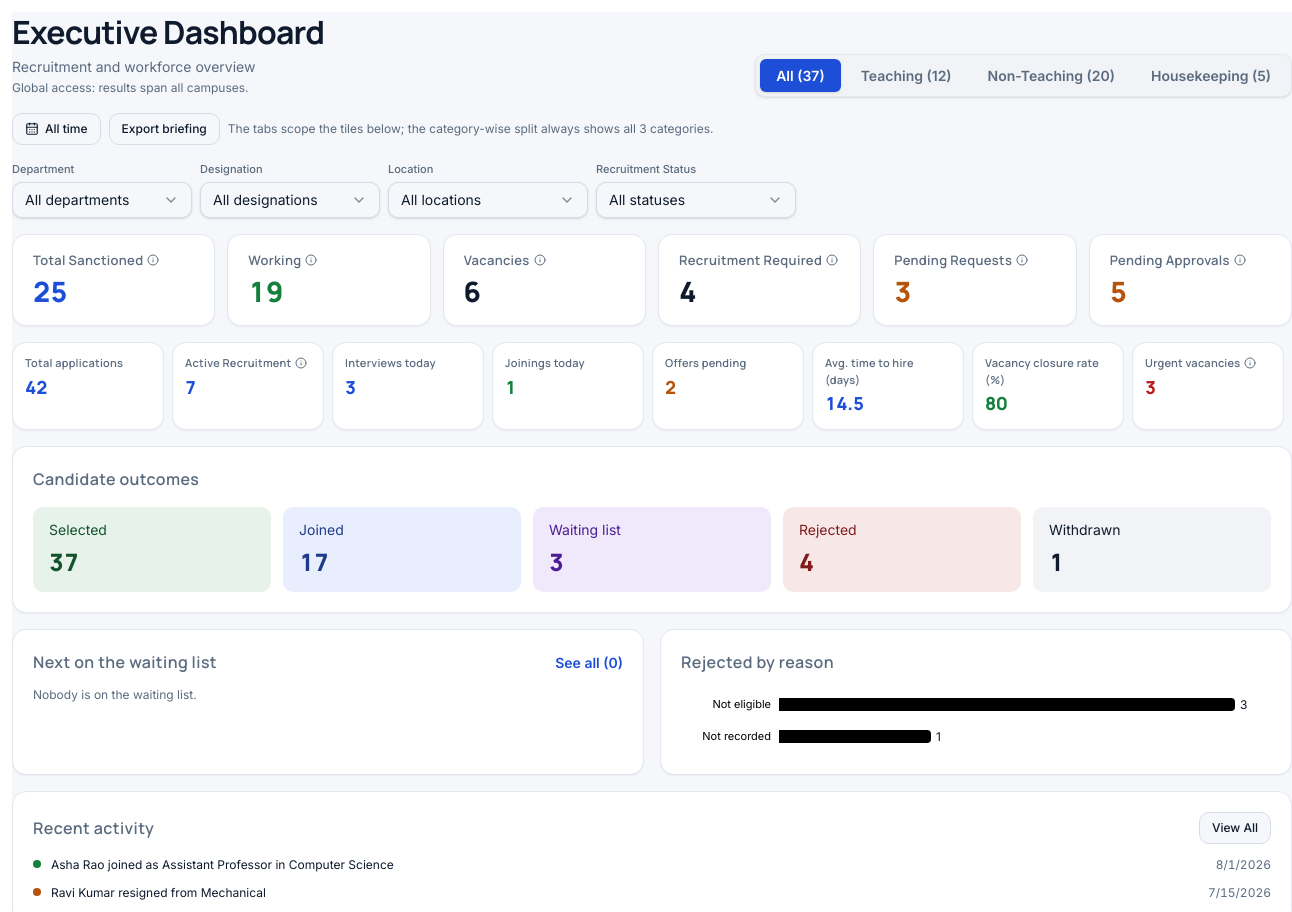
Test: DashboardPage › filters the KPI strip's numbers when a category tab is selected, but keeps the split card's rows unchanged
Expected: the text "42" is shown, [25,374,47,398]
Step 1. Click the tab "Teaching (12)" → (906, 76), box [845,59,968,92]
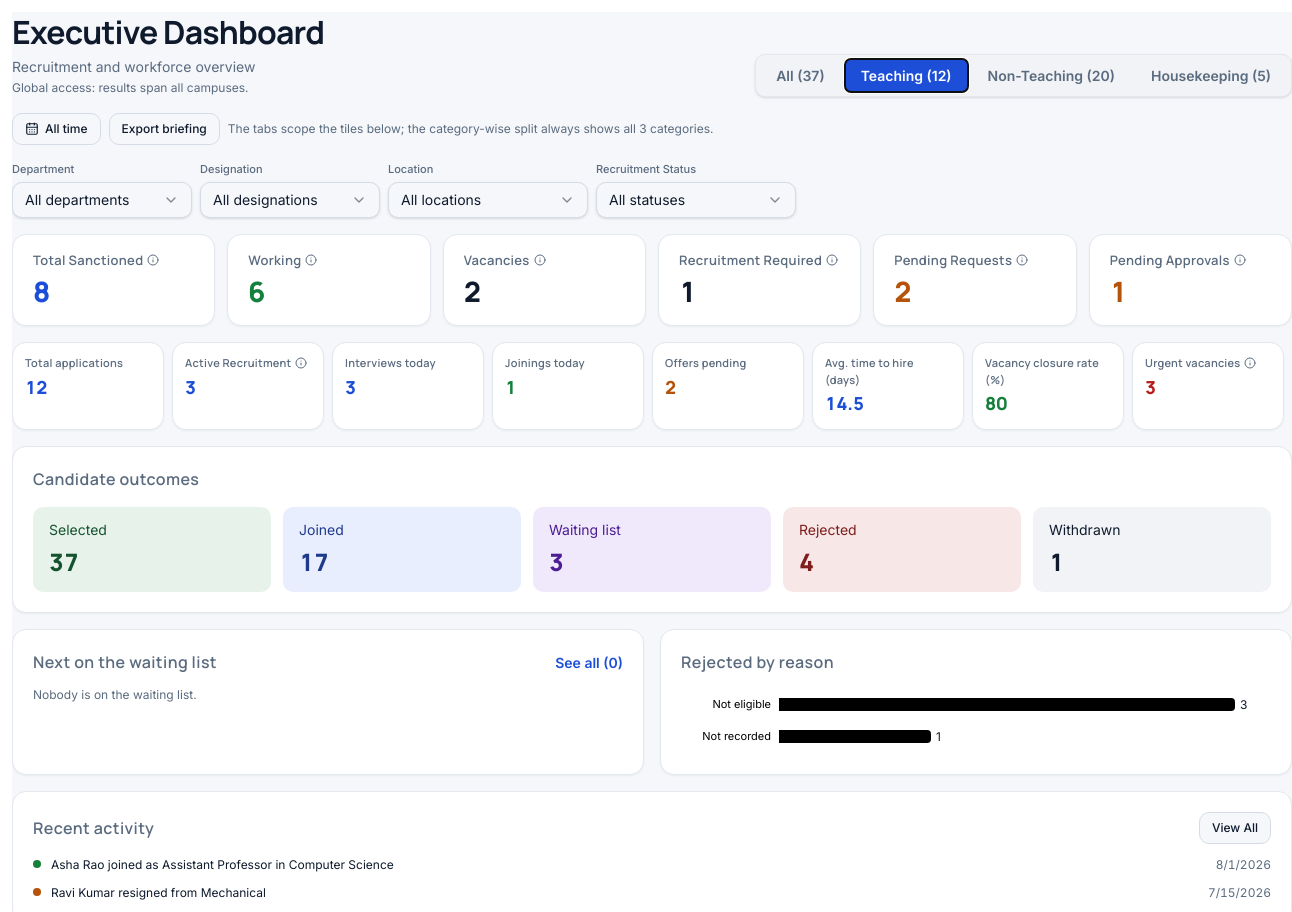
Now the text "42" is gone
Now the text "12" is shown, box [25,374,47,398]
Now the text "25" is gone
